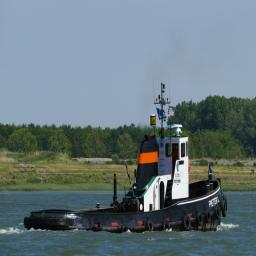tugboat: (22, 77, 230, 236)
